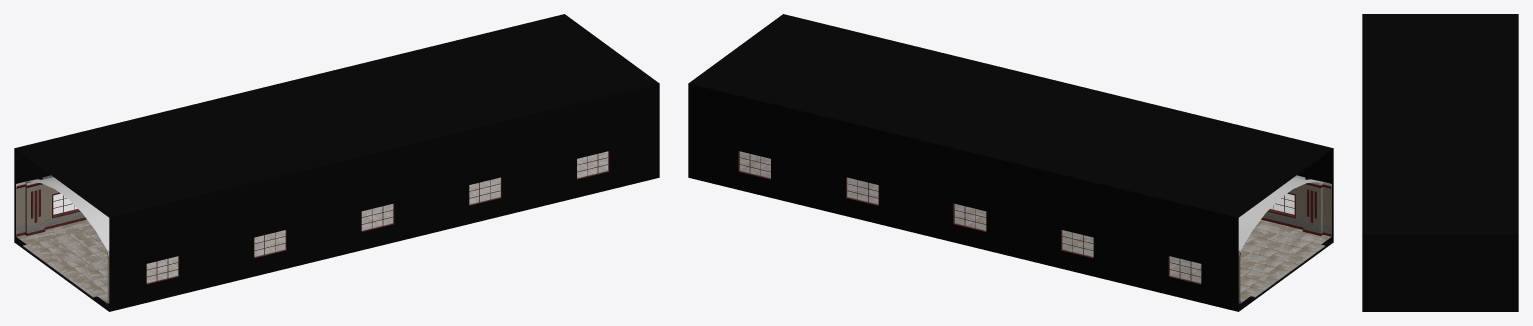
File: mjp-gallery-hall.glb
3 renders of one model, left to right at view 1: azimuth 30°, elevation 25°; view 2: azimuth 150°, elevation 25°; view 3: azimuth 270°, elevation 25°, orthographic. The views are drawn at different scales.
Parts seen in each view (by area): view 1: Material2 (×7); view 2: Material2 (×7); view 3: Material2.
Part boxes in pixels (x1,y1,x2,y2): Material2 (×7): (14, 14, 659, 311); Material2 (×7): (688, 14, 1333, 311); Material2: (1362, 14, 1518, 311).
Bounding box in the file's own units: 1451 × 236 × 430.
9 materials, 6 textured.
